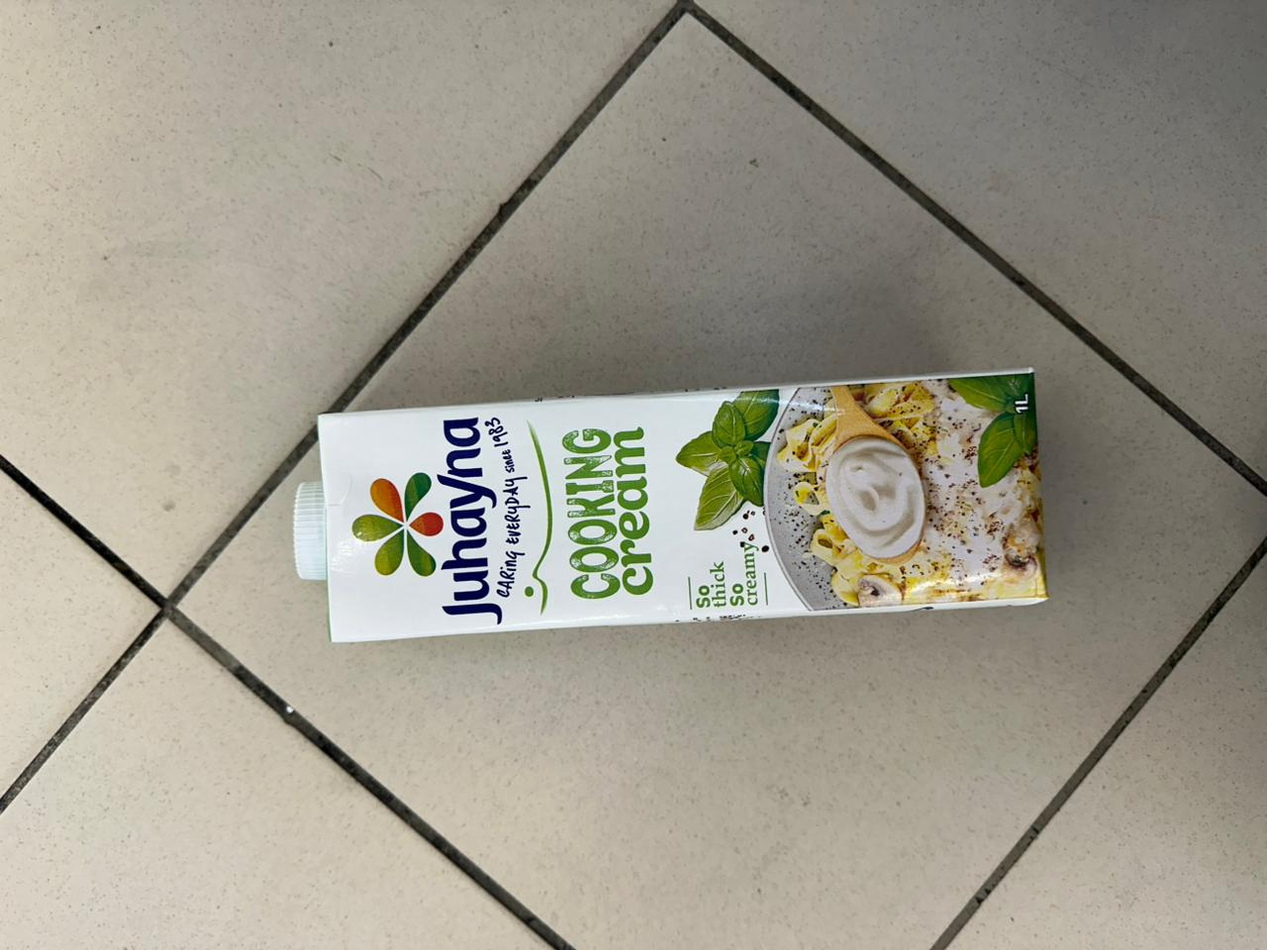cooking_cream: (257, 345, 1085, 633)
